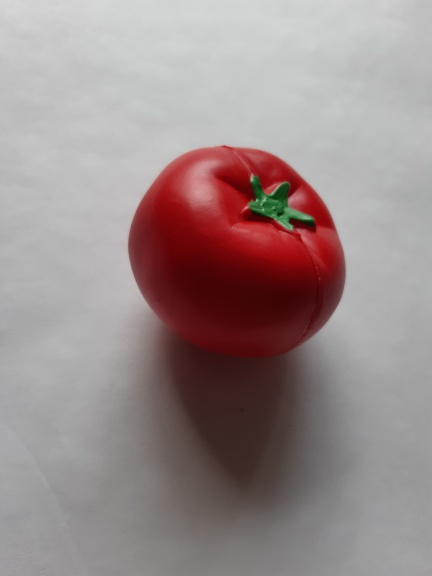tomato: (115, 138, 366, 373)
